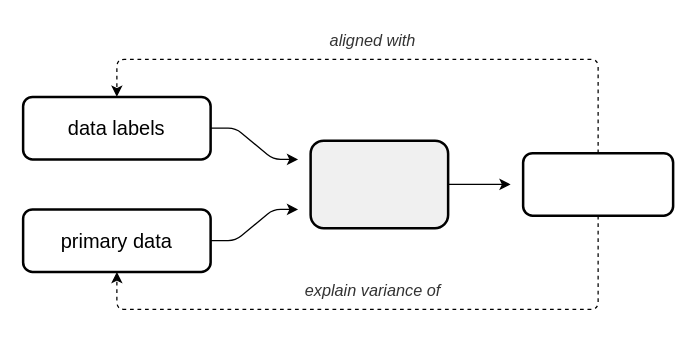
This 695x341 diagram has some shape labels left out. Here are the shapes that lost their labels. From the top down, the centre of each, then its label:
At pixel 379 184: "sAPCA".
At pixel 597 183: "factors".
